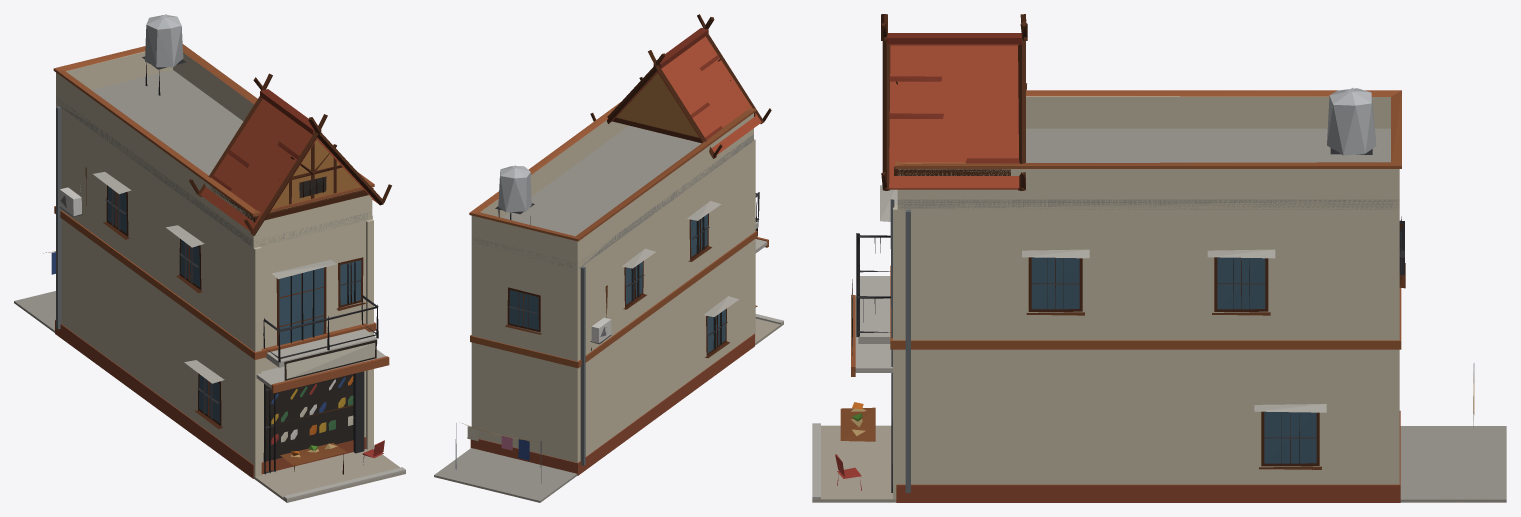
Rendered from bay1_one.glb.
3 views of the same model, side by side, from view 1: azimuth 30°, elevation 25°; view 2: azimuth 150°, elevation 25°; view 3: azimuth 270°, elevation 25° (orthographic). The views are drawn at different scales.
Visible parts, largest first — view 1: body, windows; view 2: body, windows; view 3: body, windows.
Boxes of the visible parts, box(x1,y1,x2,y2) form: body: box(14, 14, 405, 502); windows: box(107, 176, 361, 461); body: box(434, 14, 783, 502); windows: box(509, 214, 725, 353); body: box(812, 14, 1506, 502); windows: box(1031, 219, 1401, 463).
Bounding box in the file's own units: 4.98 × 11.33 × 15.9.
